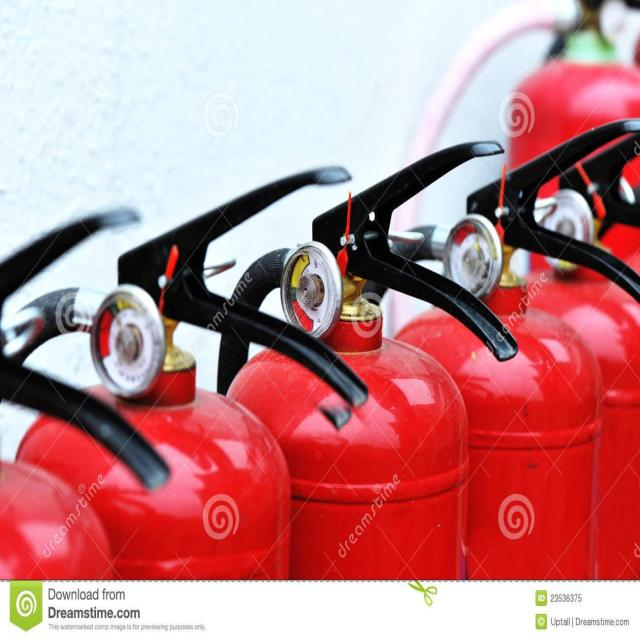fire_extinguisher: (10, 161, 370, 582), (339, 107, 638, 581), (213, 136, 520, 581), (0, 198, 169, 577)
